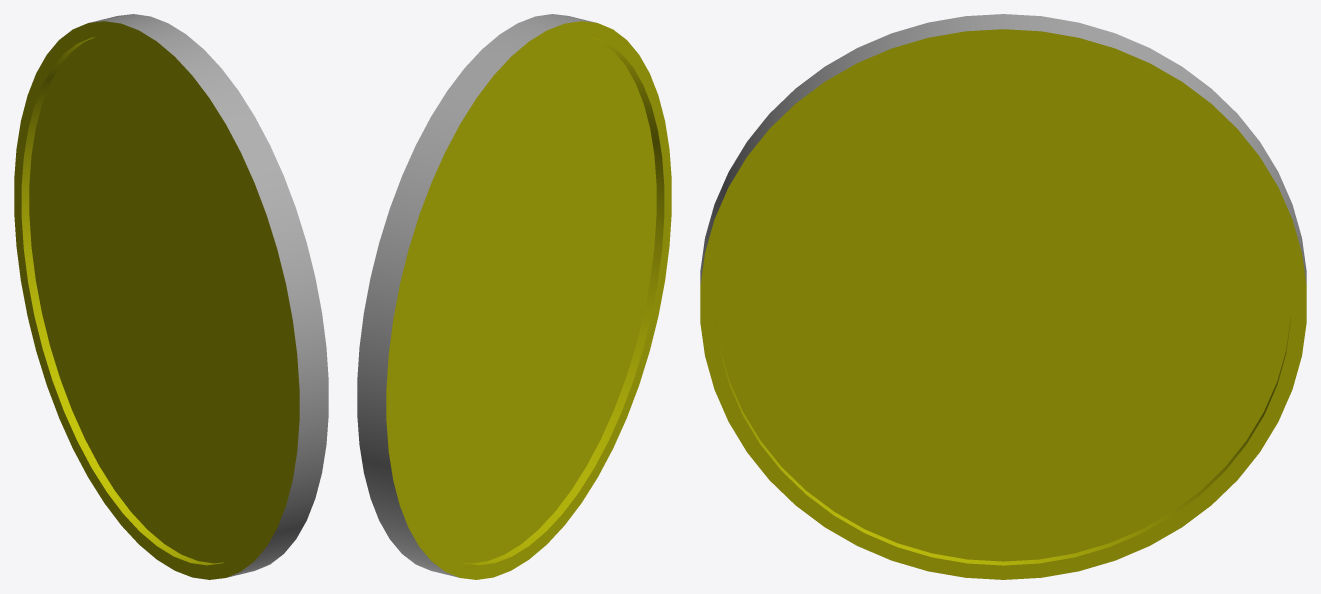
Rendered from Coin.fbx.
3 renders of one model, left to right at view 1: azimuth 30°, elevation 25°; view 2: azimuth 150°, elevation 25°; view 3: azimuth 270°, elevation 25°, orthographic. The views are drawn at different scales.
Visible parts, largest first — view 1: pCylinder2; view 2: pCylinder2; view 3: pCylinder2.
Part boxes in pixels (<box>): pCylinder2: <box>14,14,328,579</box>; pCylinder2: <box>357,14,671,579</box>; pCylinder2: <box>700,14,1306,579</box>.
Size of the model in its own units: 0.1182 by 2 by 2.
